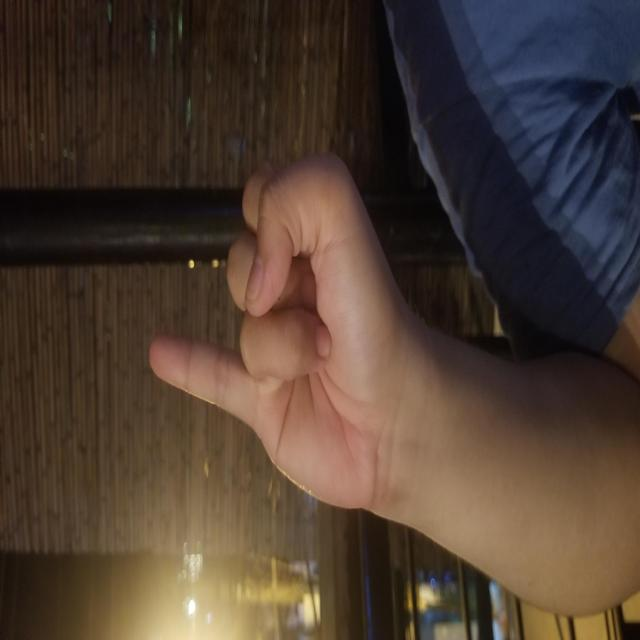I: (132, 147, 494, 389)
